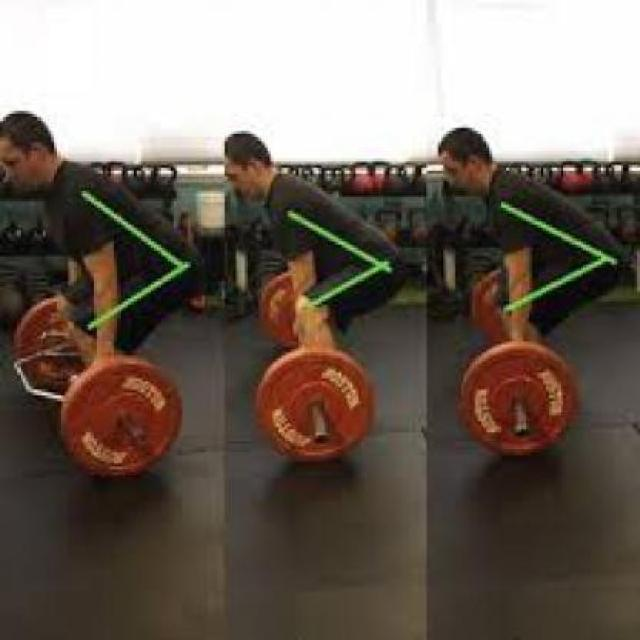barbell: (48, 344, 196, 487), (244, 342, 383, 479), (455, 340, 587, 464)
